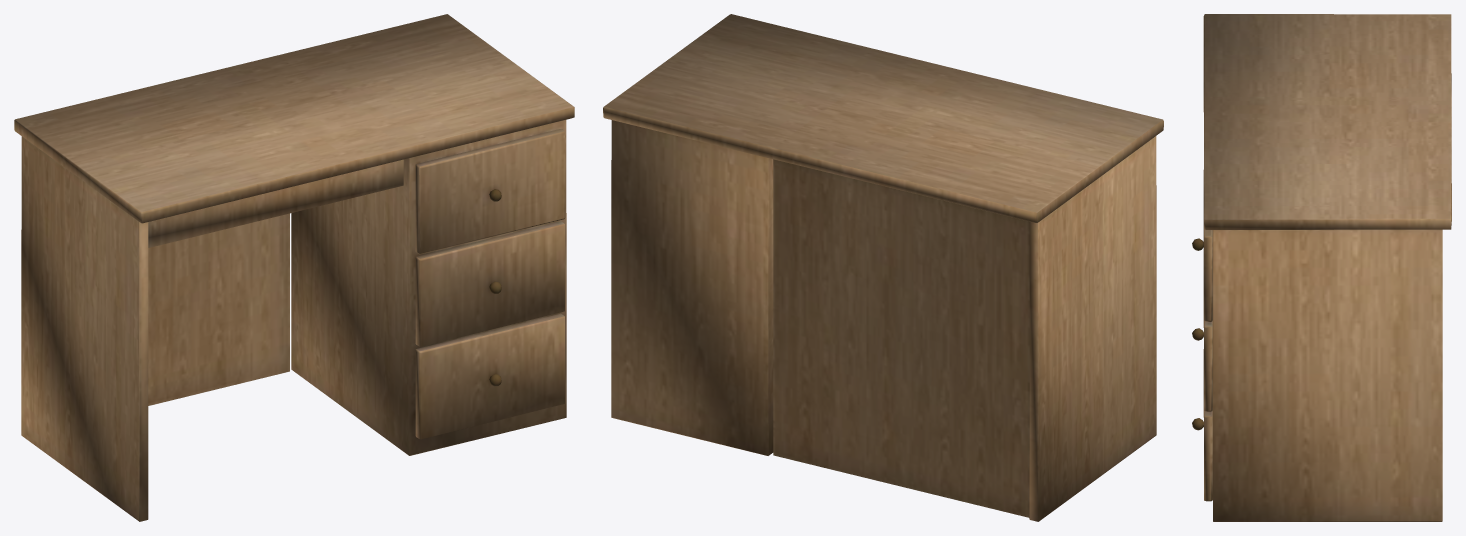
File: desk-low.glb
3 renders of one model, left to right at view 1: azimuth 30°, elevation 25°; view 2: azimuth 150°, elevation 25°; view 3: azimuth 270°, elevation 25°, orthographic. The views are drawn at different scales.
Visible parts, largest first — view 1: desk-low; view 2: desk-low; view 3: desk-low.
Boxes of the visible parts, x1,y1,x2,y2 form: desk-low: [14, 14, 574, 521]; desk-low: [603, 14, 1163, 521]; desk-low: [1192, 14, 1451, 521].
Size of the model in its own units: 1.1 by 0.7578 by 0.586.
1 material, 1 textured.
